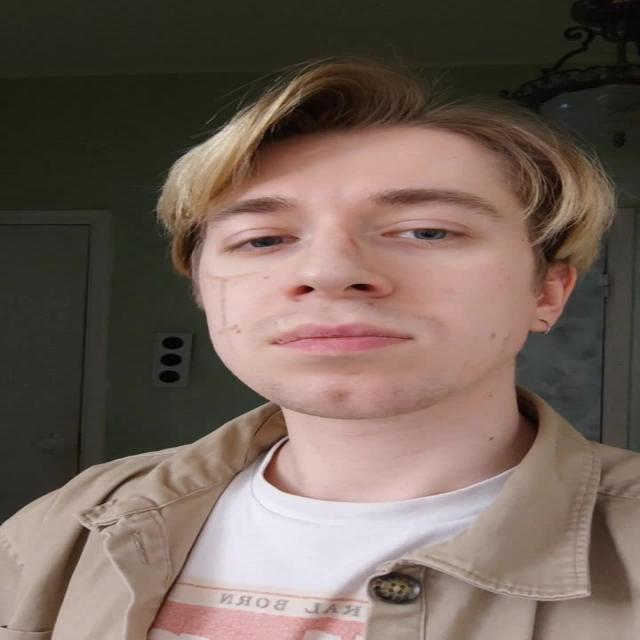earlobe: (527, 305, 560, 333)
eye: (382, 226, 468, 245), (222, 234, 298, 250)
nose: (284, 290, 390, 324)
wholeear: (527, 262, 579, 333)
